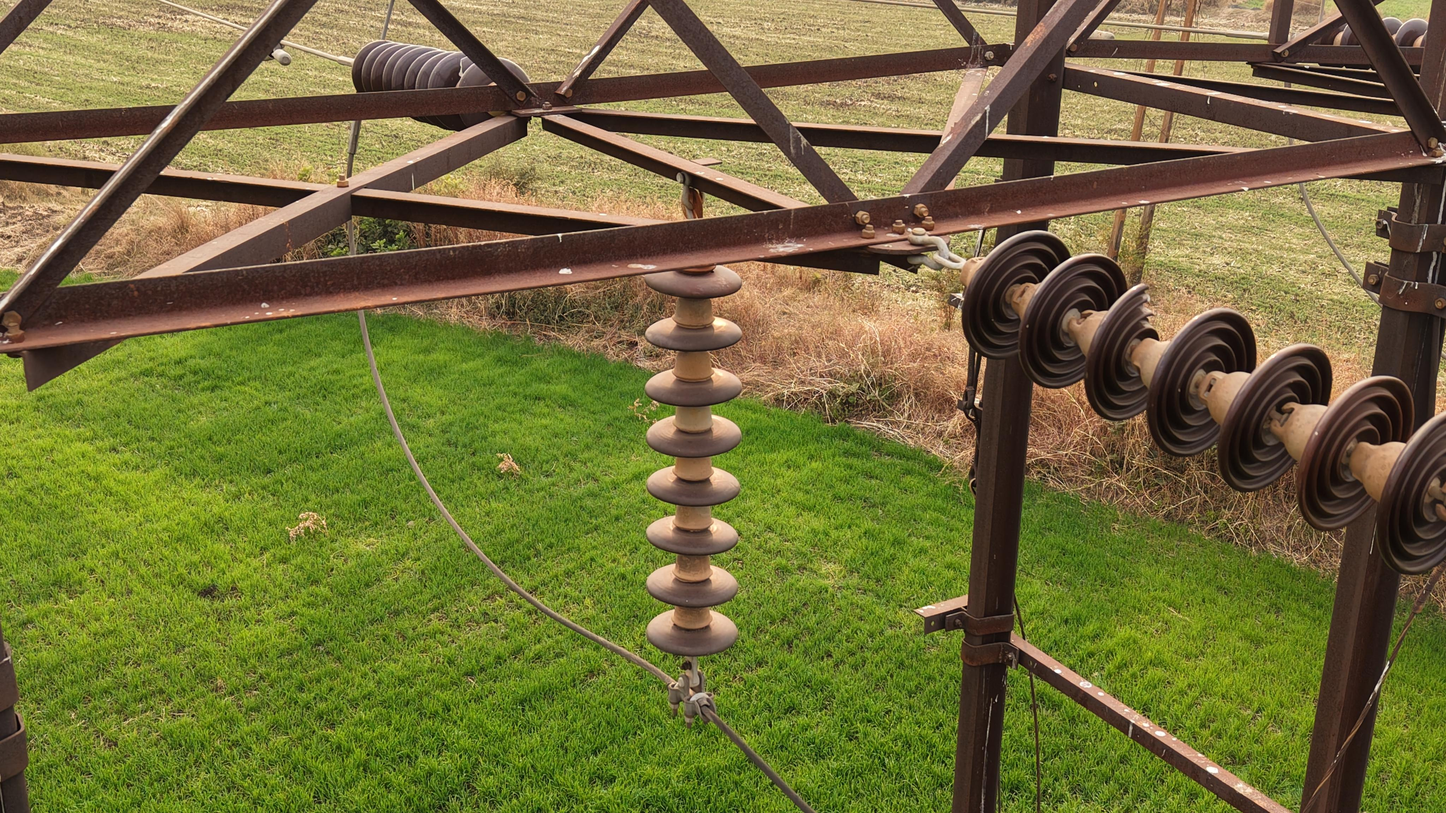broken_insulator: (1076, 265, 1161, 445), (453, 54, 486, 124)
